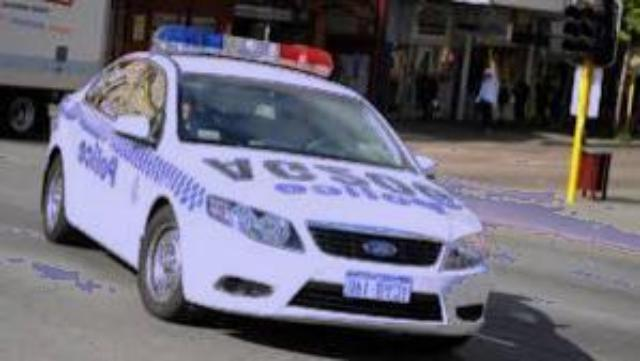police: (39, 24, 492, 345)
